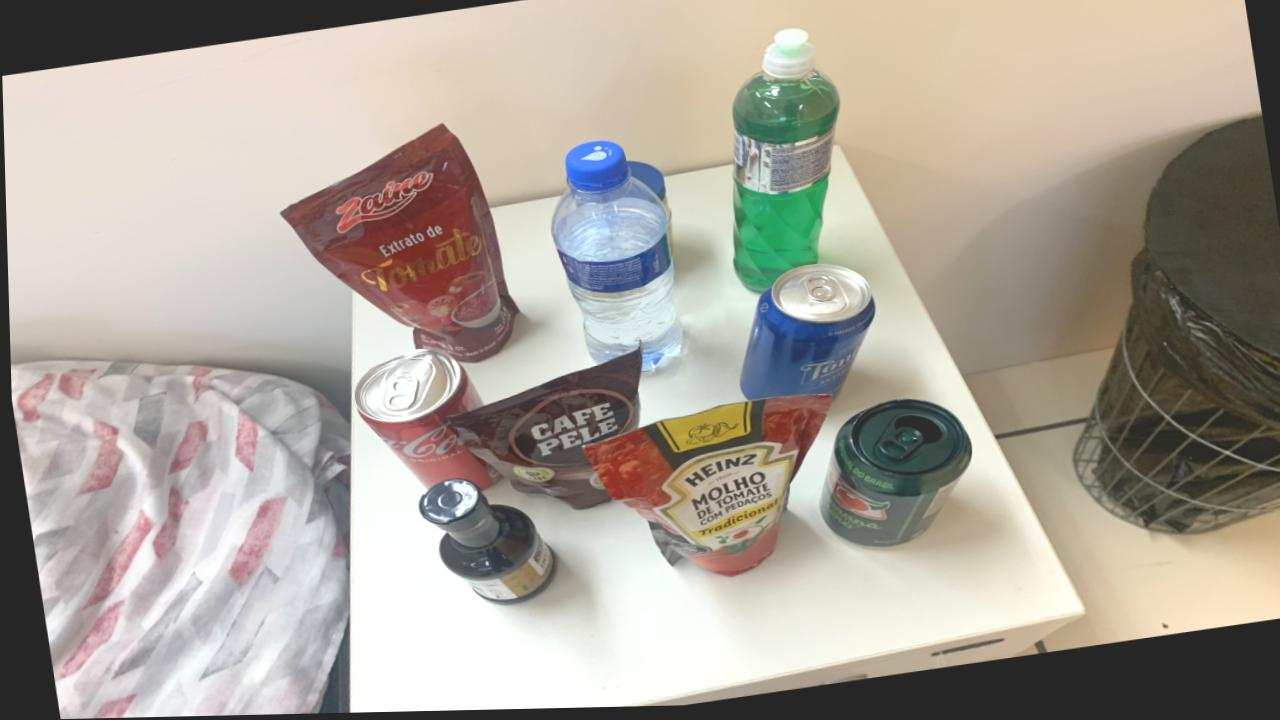Coffee-Pantry_Items: (447, 353, 641, 513)
Coke-Drinks: (350, 351, 496, 490)
Detergent-Cleanup_Items: (732, 32, 841, 295)
English_Sauce-Pantry_Items: (416, 481, 554, 606)
Guarana_Can-Drinks: (816, 403, 970, 551)
Mayonnaise-Pantry_Items: (627, 163, 666, 203)
Tomato_Sauce-Pantry_Items: (280, 128, 517, 364), (583, 398, 828, 579)
Tonic-Drinks: (737, 267, 873, 403)
Water_Bottle-Drinks: (549, 143, 681, 374)
